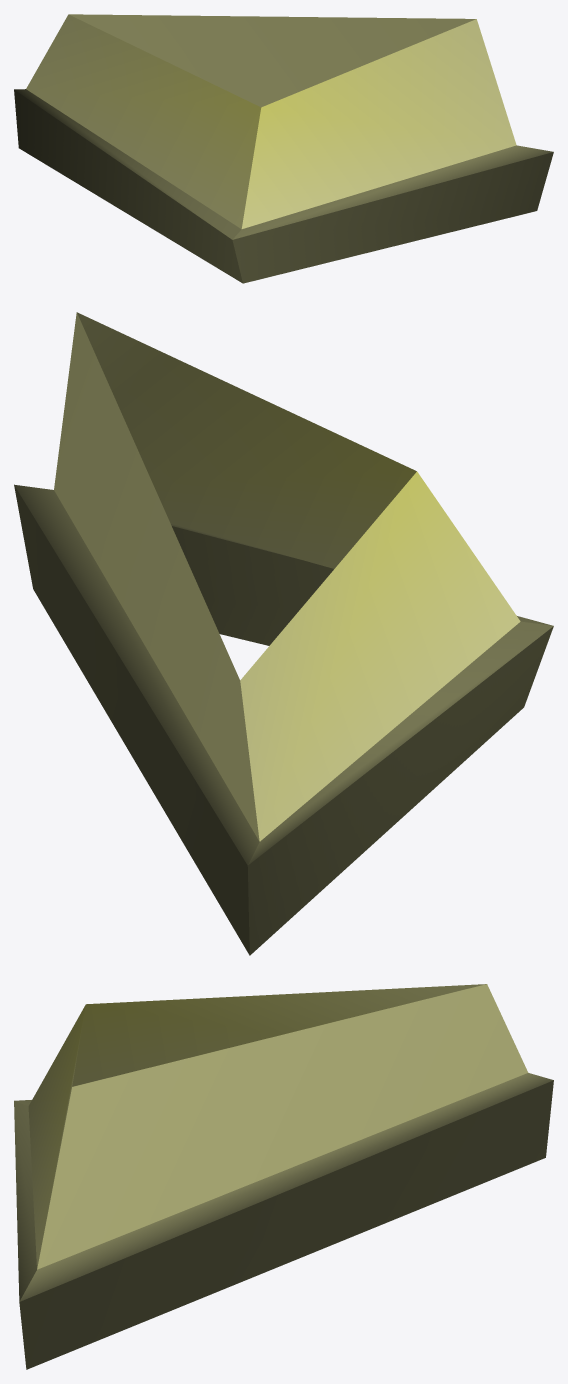
File: c_house_body_triangle_ac.fbx
3 renders of one model, top to bottom at view 1: azimuth 30°, elevation 25°; view 2: azimuth 150°, elevation 25°; view 3: azimuth 270°, elevation 25°, orthographic. The views are drawn at different scales.
Visible parts, largest first — view 1: c_house_body_triangle_ac; view 2: c_house_body_triangle_ac; view 3: c_house_body_triangle_ac.
Boxes of the visible parts, box(x1,y1,x2,y2) form: c_house_body_triangle_ac: box(14, 14, 553, 283); c_house_body_triangle_ac: box(14, 312, 553, 955); c_house_body_triangle_ac: box(14, 984, 553, 1369).
Bounding box in the file's own units: 8.58 × 4.58 × 8.79.
